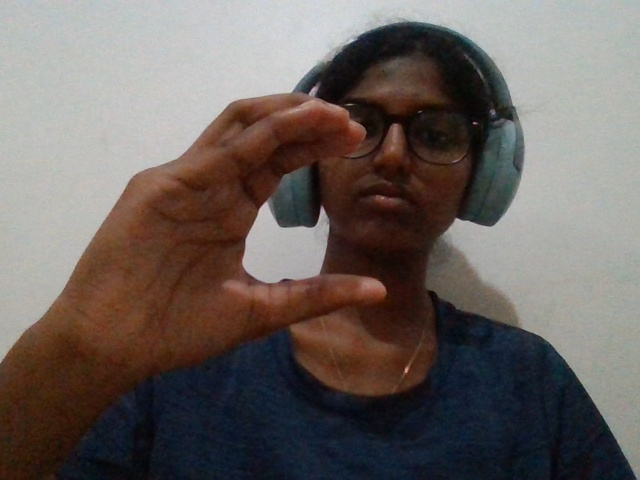C: (10, 61, 419, 434)
